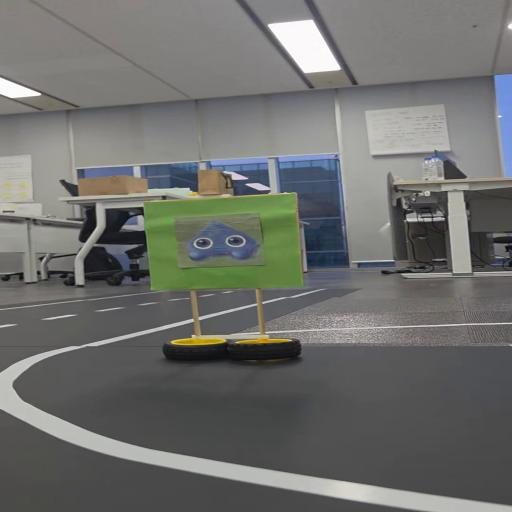Sign_B: (138, 186, 319, 370)
